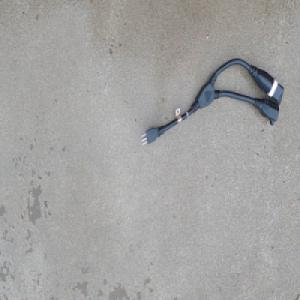Wire: (140, 56, 284, 147)
